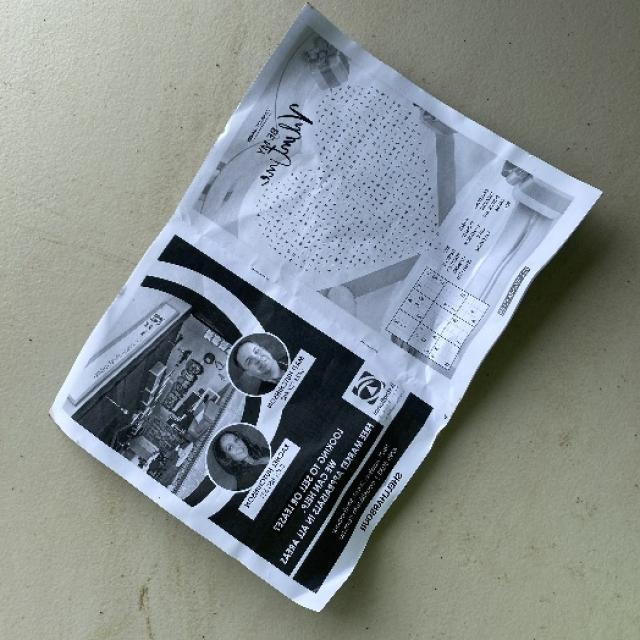inorganic: (47, 3, 600, 614)
